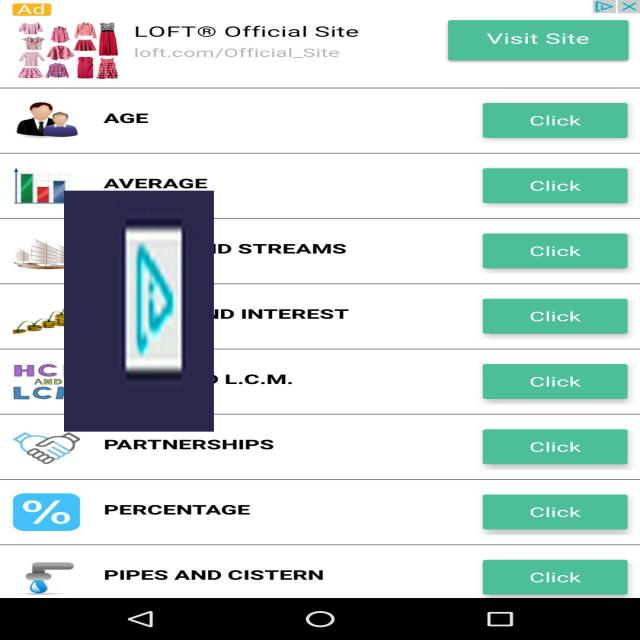sneaking: (64, 190, 214, 432)
